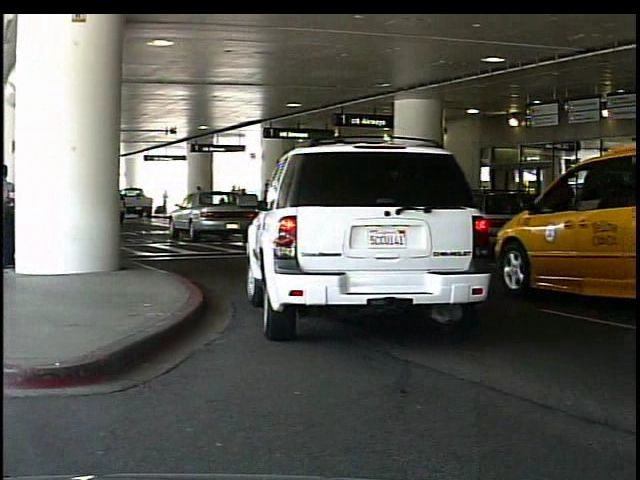person: (550, 173, 579, 259), (164, 188, 171, 215)
